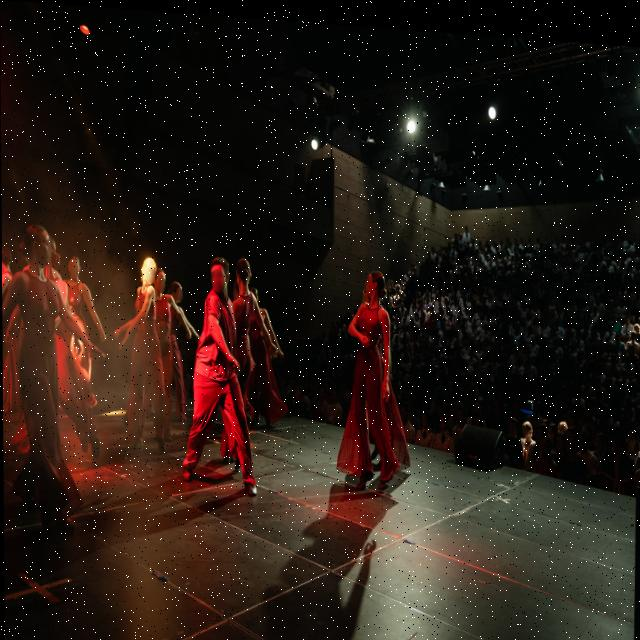Person: (11, 216, 77, 576), (330, 258, 402, 503), (195, 250, 254, 492), (119, 240, 177, 465), (226, 249, 265, 426), (147, 261, 173, 431), (61, 243, 97, 341), (170, 256, 189, 405)
